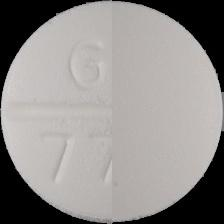68788-9176: (0, 0, 224, 224)
